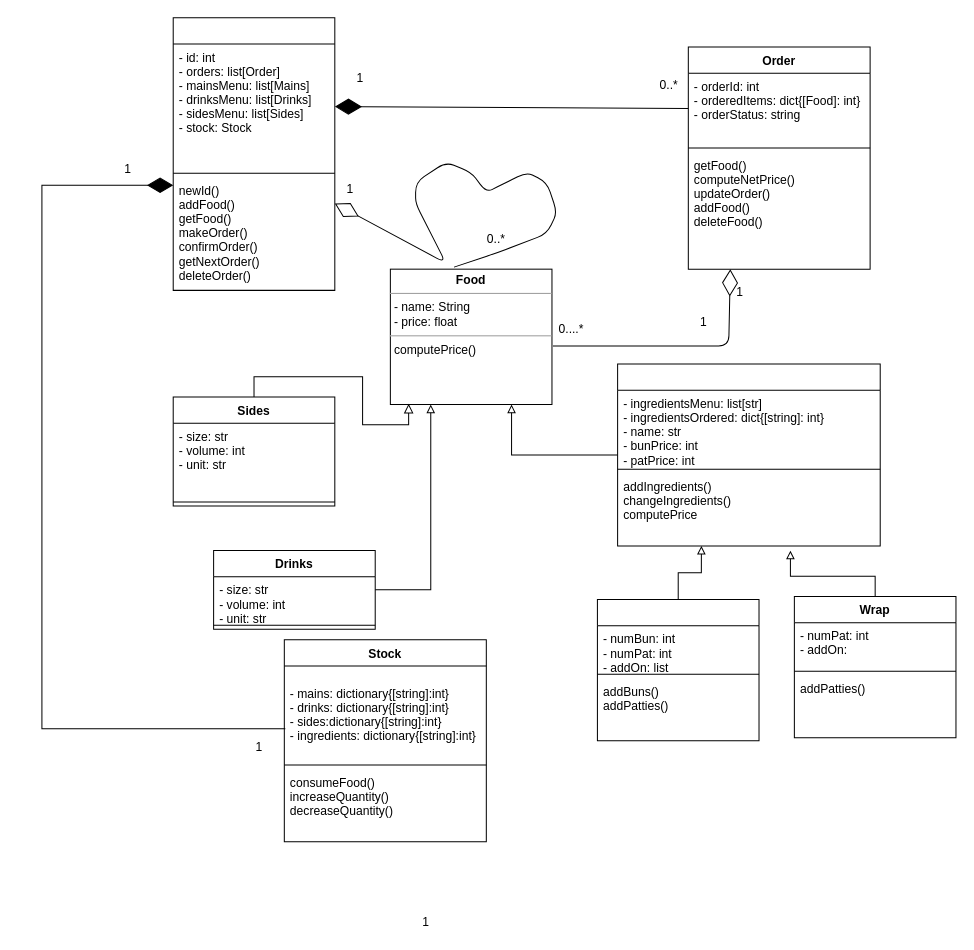
This 974x950 diagram has some shape labels left out. Here are the shapes that lost their labels. From the top down, the box of each, then its label:
(172, 17, 335, 290): Ordering System
(617, 363, 880, 546): Mains
(596, 598, 759, 741): Burger
